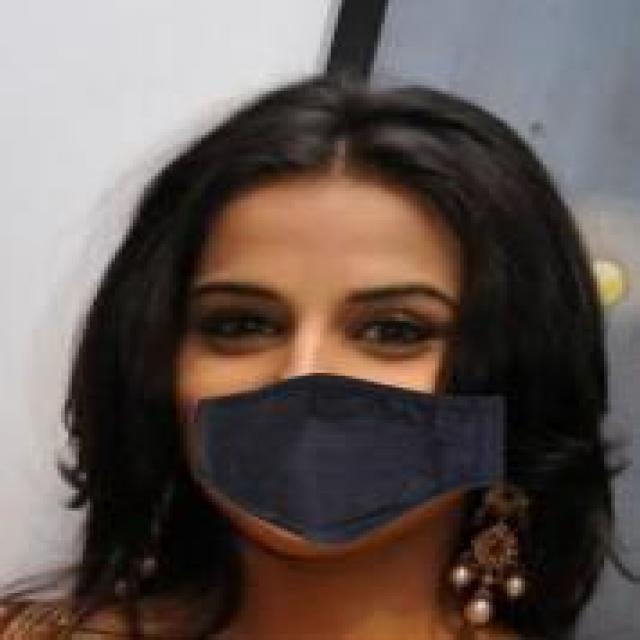mask: (137, 132, 532, 573)
